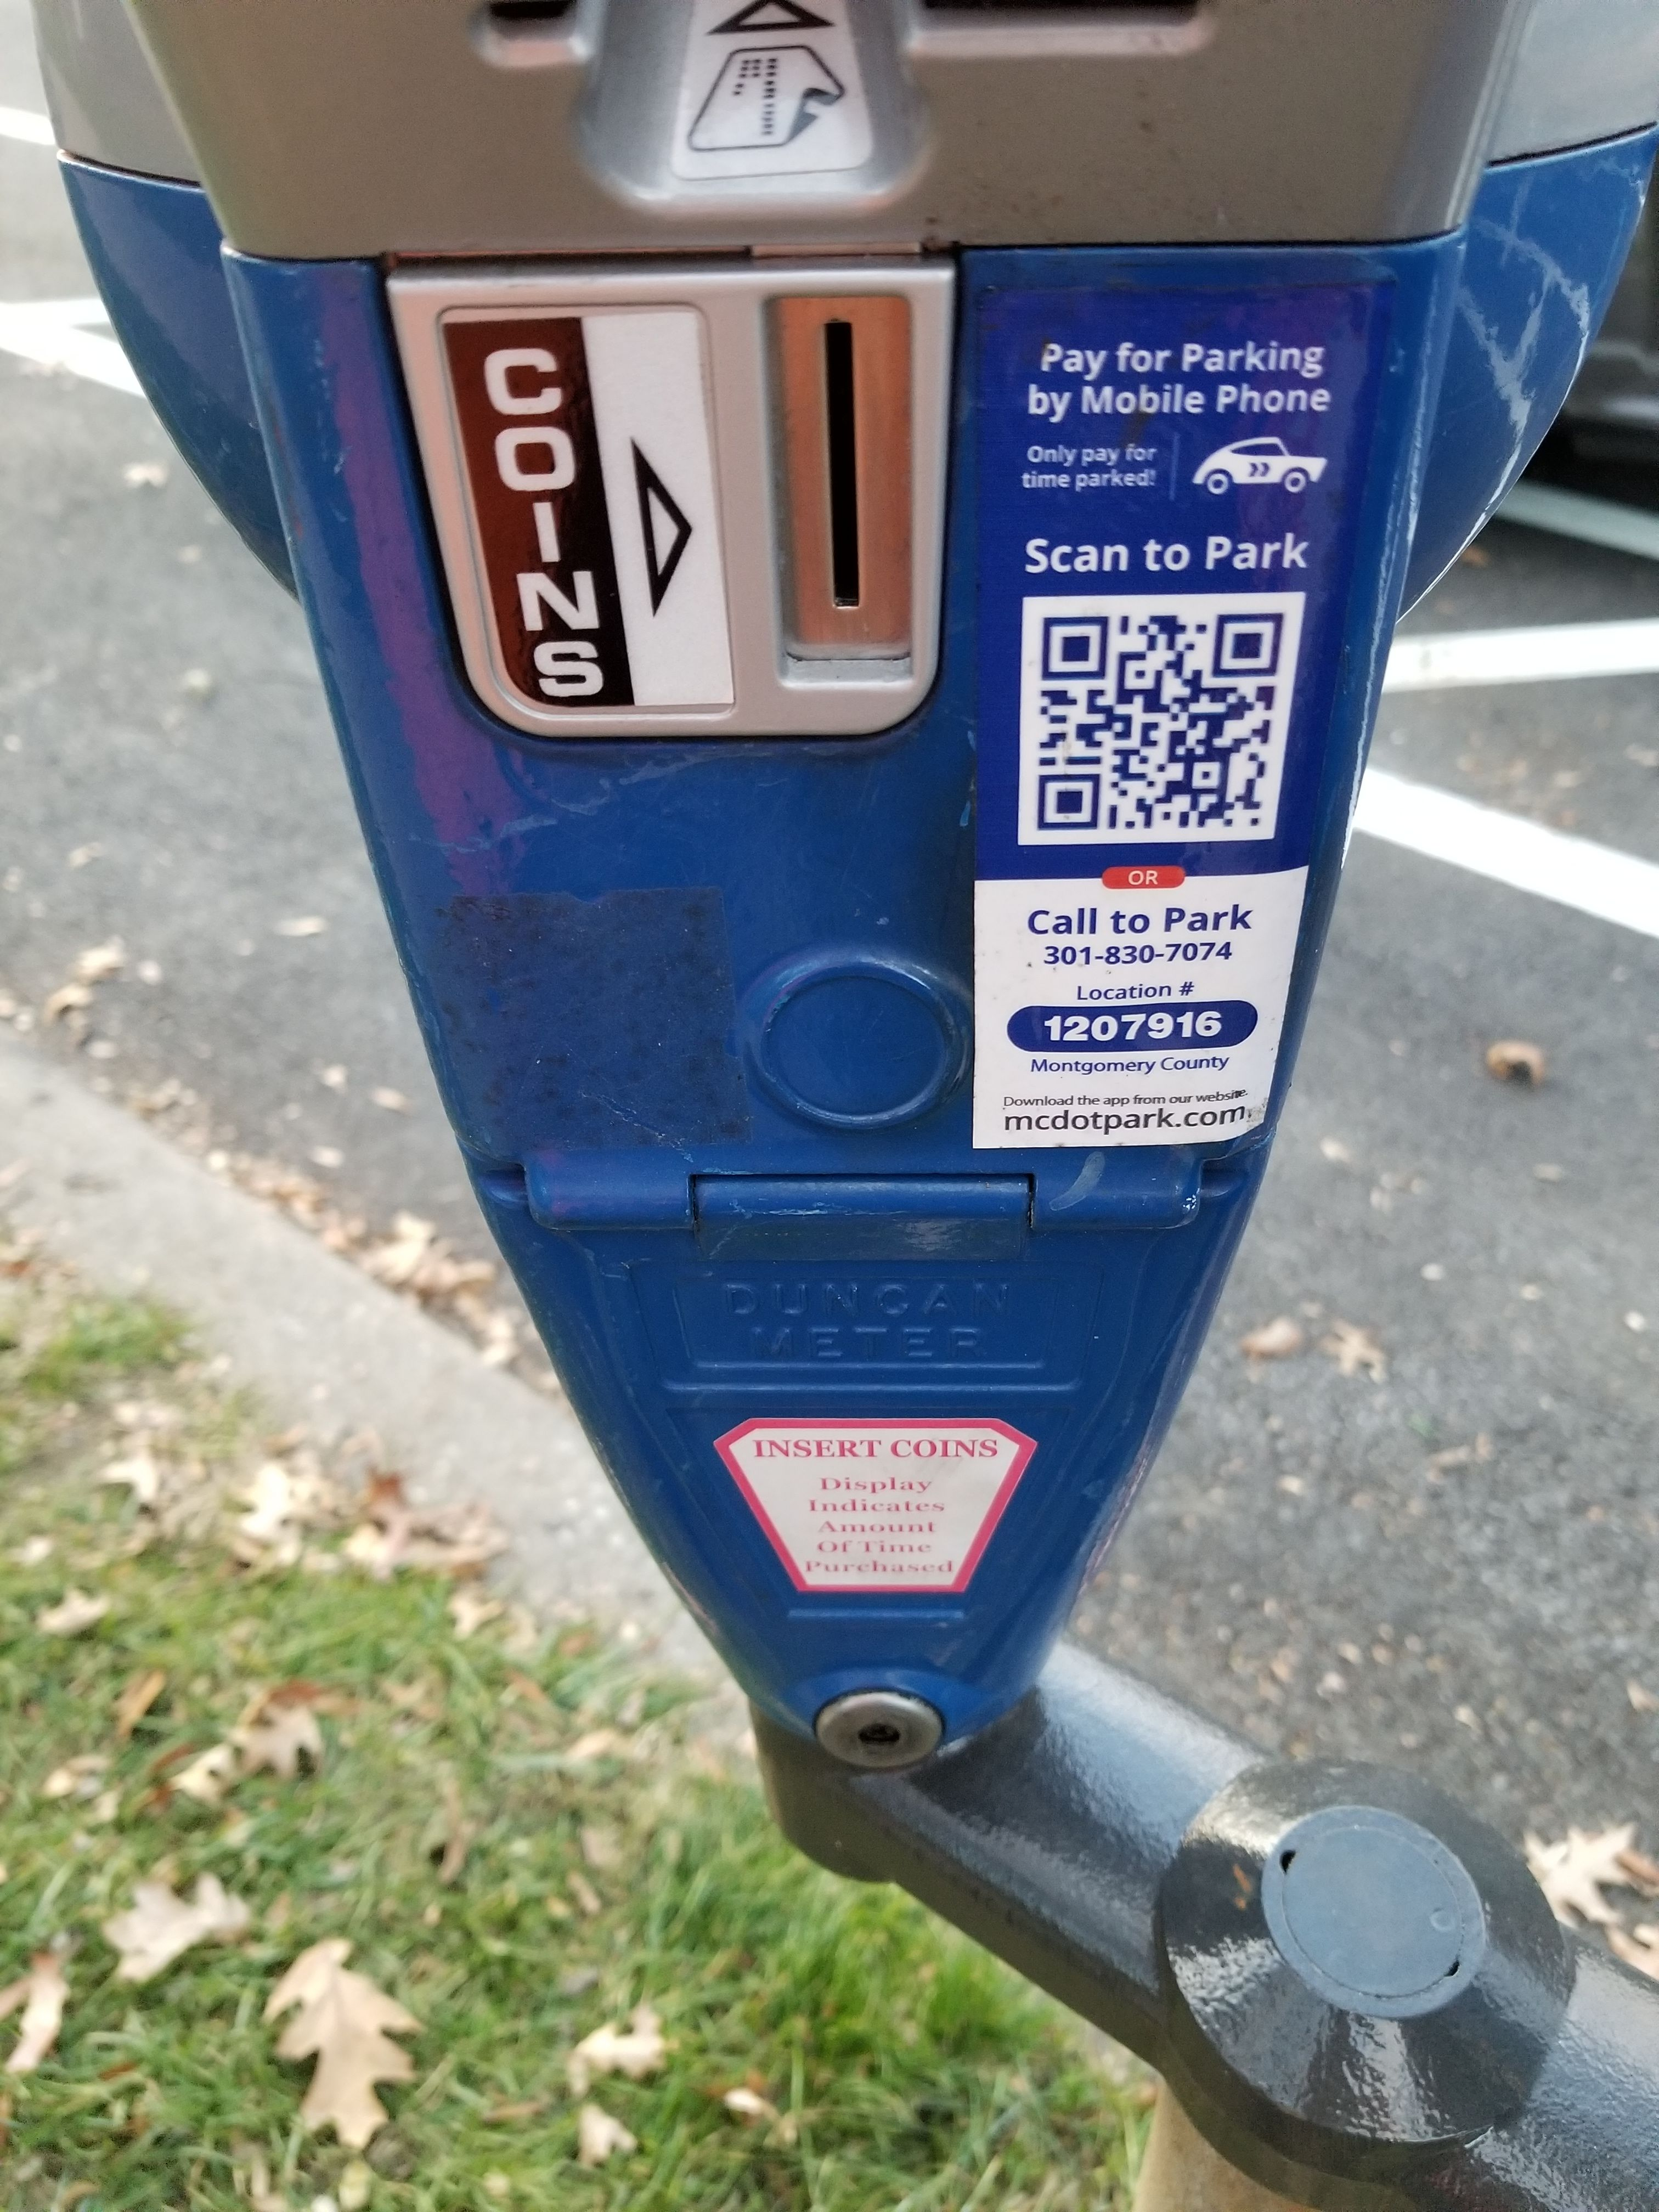QR_CODE: (1012, 571, 1316, 859)
